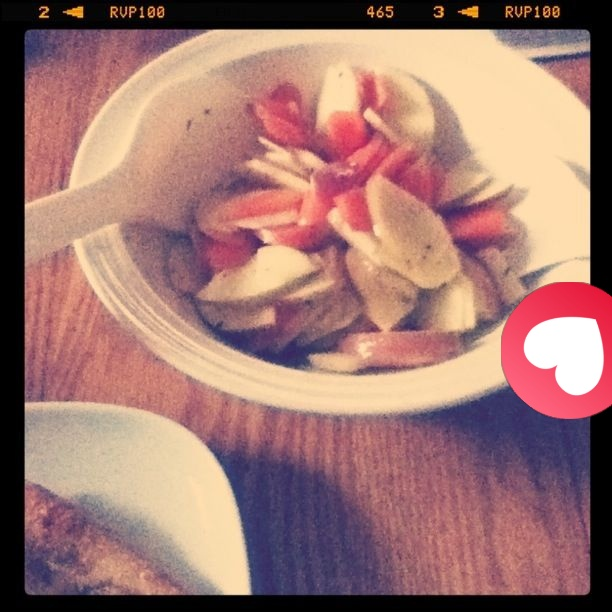love: (501, 282, 612, 419)
